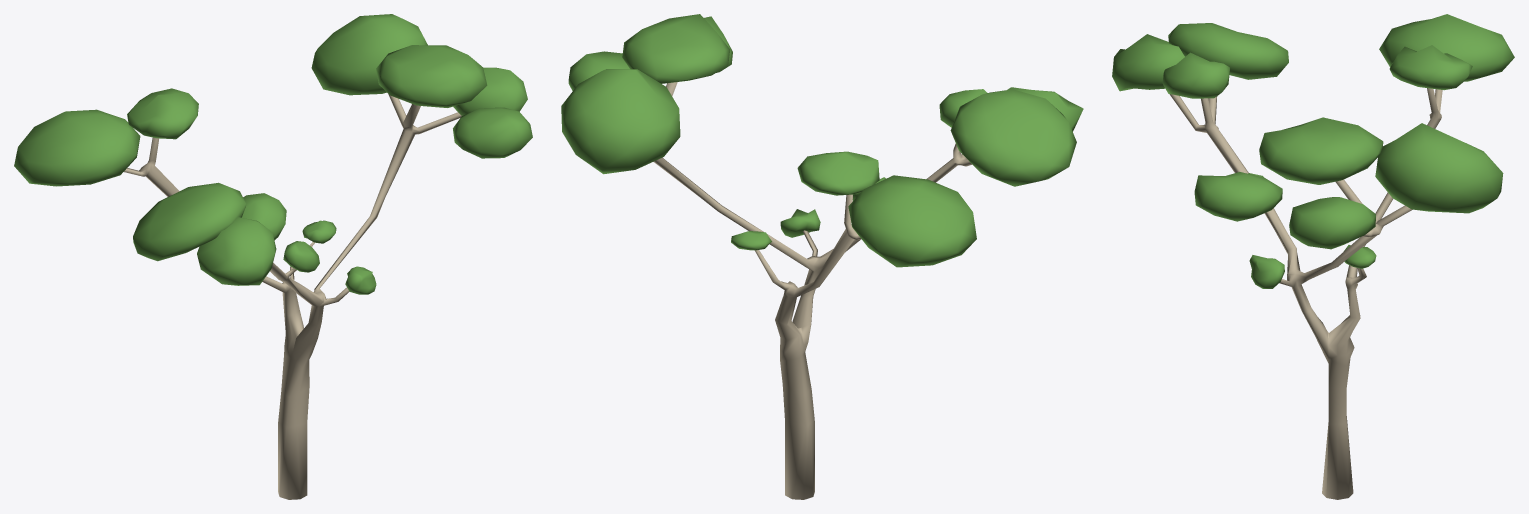
The model's file is Vegetacao-Arvore-Tipo-01-02.fbx.
3 renders of one model, left to right at view 1: azimuth 30°, elevation 25°; view 2: azimuth 150°, elevation 25°; view 3: azimuth 270°, elevation 25°, orthographic. The views are drawn at different scales.
Parts seen in each view (by area): view 1: Vegetacao-Arvore-Tipo-01-02; view 2: Vegetacao-Arvore-Tipo-01-02; view 3: Vegetacao-Arvore-Tipo-01-02.
Boxes of the visible parts, x1=… form: Vegetacao-Arvore-Tipo-01-02: x1=14, y1=14, x2=532, y2=499; Vegetacao-Arvore-Tipo-01-02: x1=561, y1=14, x2=1083, y2=499; Vegetacao-Arvore-Tipo-01-02: x1=1112, y1=14, x2=1514, y2=499.
Size of the model in its own units: 224 by 201 by 170.
